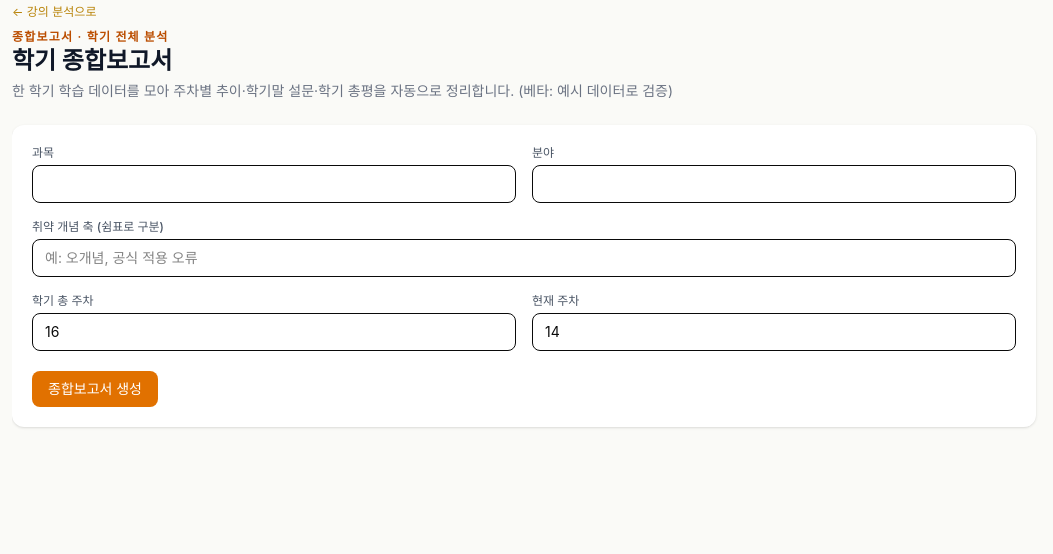
Test case: ComprehensiveReportPage › shows gated panel on 403
Type "유체역학" into the field labelled "과목" at {"x": 274, "y": 184}, box [32,165,516,203]
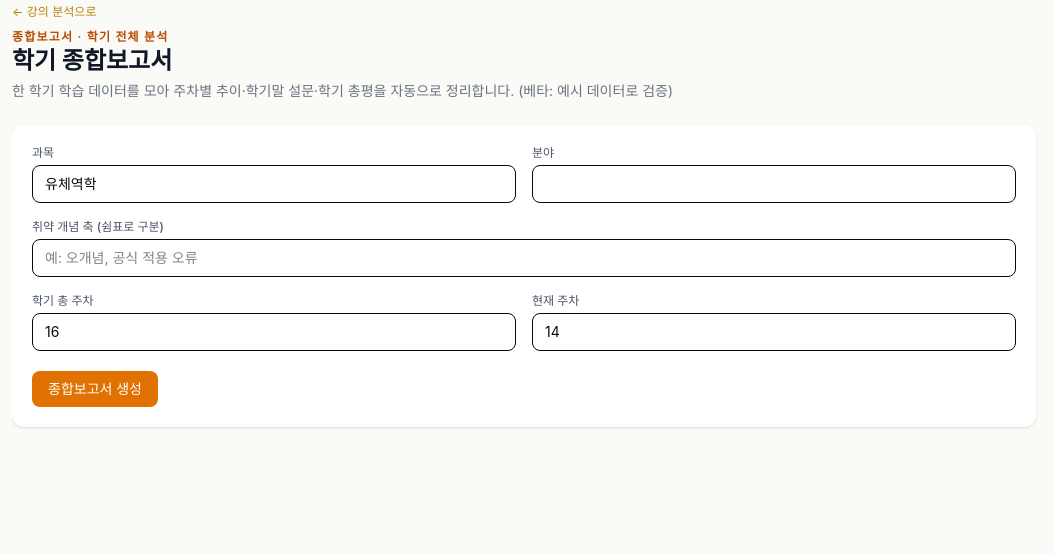
Type "공학" into the field labelled "분야" at {"x": 774, "y": 184}, box [532,165,1016,203]
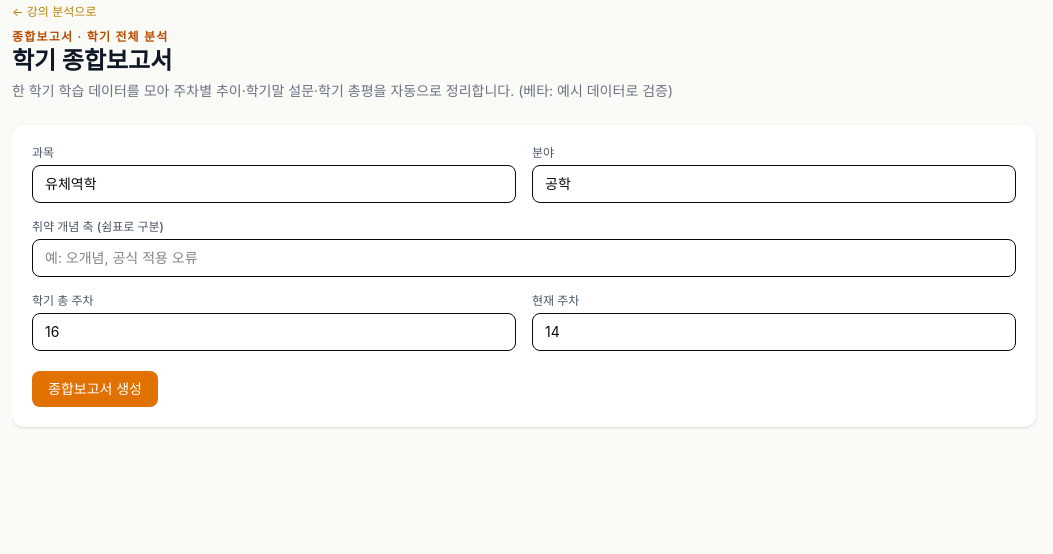
Type "오개념, 공식 적용 오류" into the field labelled "취약 개념 축 (쉼표로 구분)" at {"x": 524, "y": 258}, box [32,239,1016,277]
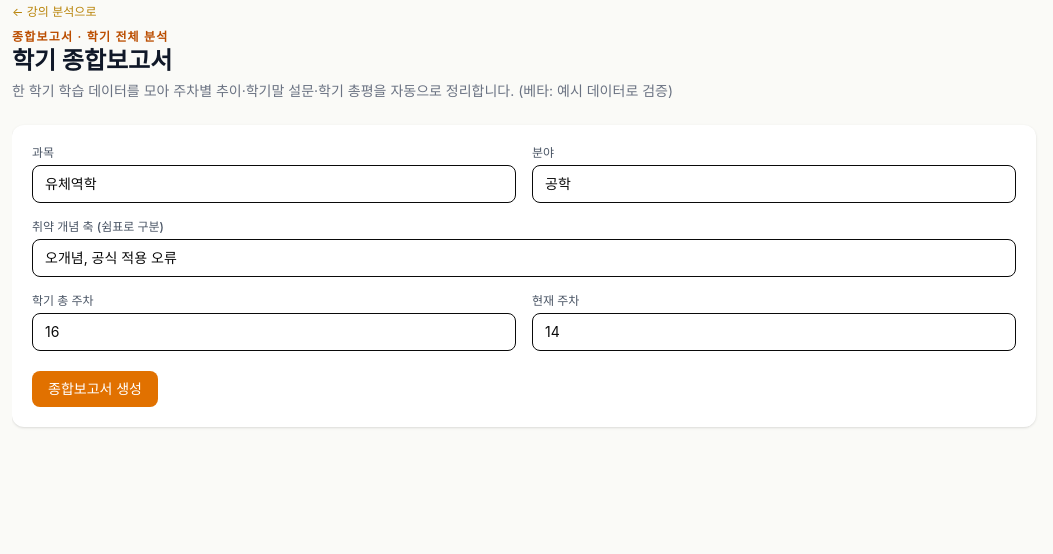
Click the button "종합보고서 생성" at {"x": 95, "y": 389}, box [32,371,158,407]
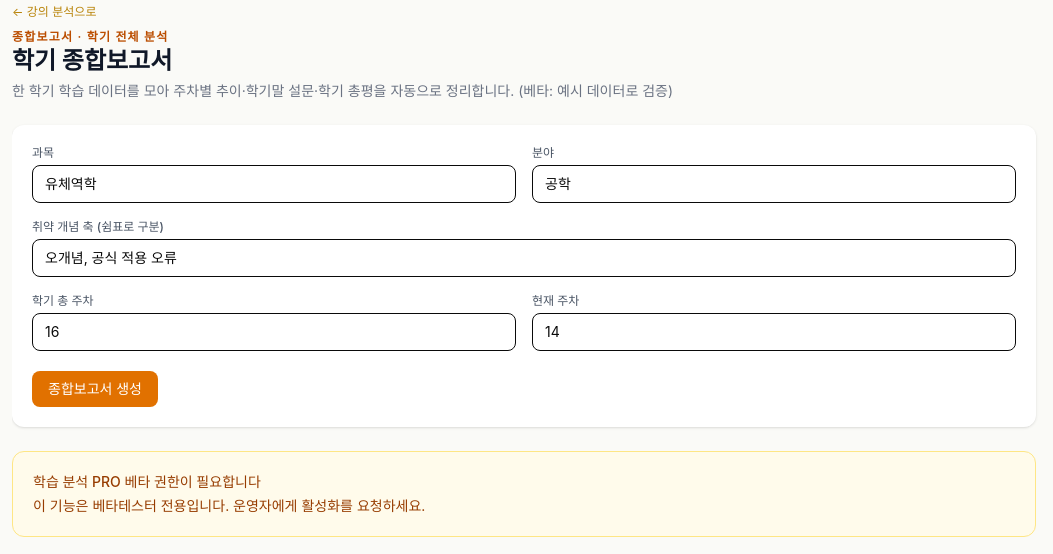
Expected: the text "학습 분석 PRO 베타 권한이 필요합니다" is shown, [33,473,261,490]
